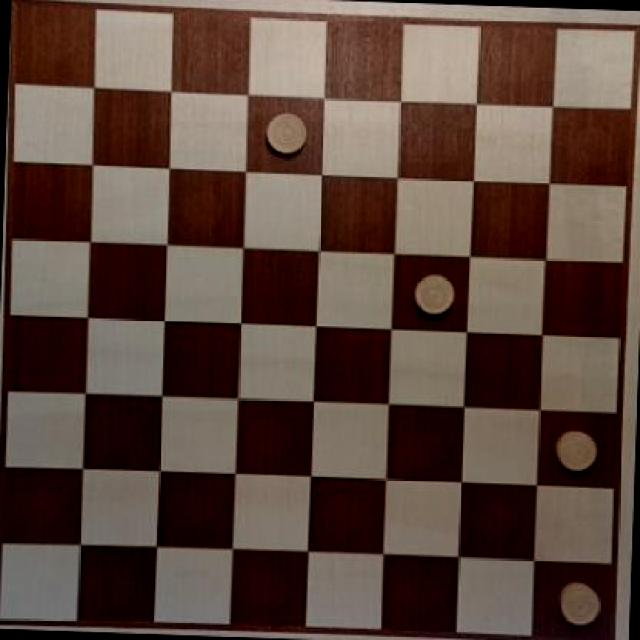BOARD: (10, 0, 618, 640)
white: (549, 576, 601, 630), (550, 426, 602, 476), (262, 108, 308, 158), (412, 265, 452, 319)
